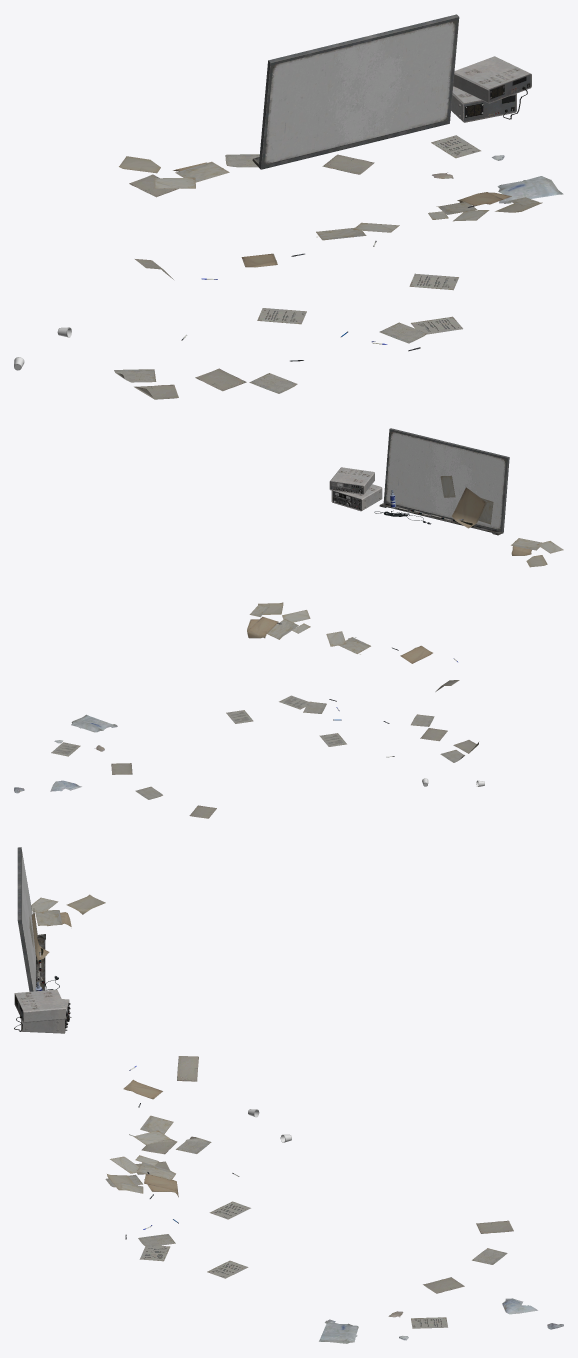
Rendered from sm39_046_machinedeskset01a.fbx.
3 renders of one model, top to bottom at view 1: azimuth 30°, elevation 25°; view 2: azimuth 150°, elevation 25°; view 3: azimuth 270°, elevation 25°, orthographic. The views are drawn at different scales.
Parts seen in each view (by area): view 1: LOD_1_Group_0_Sub_5__sm30_061_WhiteBoard02A_A_Mat, LOD_1_Group_0_Sub_4__sm36_011_Document01A_A_Mat, LOD_1_Group_0_Sub_8__sm31_023_AudioInstrument01A_A_Mat, LOD_1_Group_0_Sub_1__sm7x_ItemCommon_Document01A_A_Mat, LOD_1_Group_6_Sub_1__sm7x_ItemCommon_Document01A_A_Mat, LOD_1_Group_5_Sub_1__sm7x_ItemCommon_Document01A_A_Mat, LOD_1_Group_4_Sub_1__sm7x_ItemCommon_Document01A_A_Mat, LOD_1_Group_0_Sub_7__sm20_001_WastePaper01A_A_Mat; view 2: LOD_1_Group_0_Sub_5__sm30_061_WhiteBoard02A_A_Mat, LOD_1_Group_0_Sub_4__sm36_011_Document01A_A_Mat, LOD_1_Group_0_Sub_8__sm31_023_AudioInstrument01A_A_Mat, LOD_1_Group_0_Sub_7__sm20_001_WastePaper01A_A_Mat, LOD_1_Group_0_Sub_1__sm7x_ItemCommon_Document01A_A_Mat, LOD_1_Group_6_Sub_1__sm7x_ItemCommon_Document01A_A_Mat, LOD_1_Group_5_Sub_1__sm7x_ItemCommon_Document01A_A_Mat, LOD_1_Group_4_Sub_1__sm7x_ItemCommon_Document01A_A_Mat; view 3: LOD_1_Group_0_Sub_4__sm36_011_Document01A_A_Mat, LOD_1_Group_0_Sub_8__sm31_023_AudioInstrument01A_A_Mat, LOD_1_Group_0_Sub_5__sm30_061_WhiteBoard02A_A_Mat, LOD_1_Group_0_Sub_7__sm20_001_WastePaper01A_A_Mat, LOD_1_Group_0_Sub_1__sm7x_ItemCommon_Document01A_A_Mat, LOD_1_Group_6_Sub_1__sm7x_ItemCommon_Document01A_A_Mat, LOD_1_Group_5_Sub_1__sm7x_ItemCommon_Document01A_A_Mat, LOD_1_Group_4_Sub_1__sm7x_ItemCommon_Document01A_A_Mat.
Boxes of the visible parts, <box> form: LOD_1_Group_0_Sub_5__sm30_061_WhiteBoard02A_A_Mat: <box>252,14,459,169</box>; LOD_1_Group_0_Sub_4__sm36_011_Document01A_A_Mat: <box>119,156,542,267</box>; LOD_1_Group_0_Sub_8__sm31_023_AudioInstrument01A_A_Mat: <box>451,56,531,122</box>; LOD_1_Group_0_Sub_1__sm7x_ItemCommon_Document01A_A_Mat: <box>135,259,306,393</box>; LOD_1_Group_6_Sub_1__sm7x_ItemCommon_Document01A_A_Mat: <box>225,135,480,174</box>; LOD_1_Group_5_Sub_1__sm7x_ItemCommon_Document01A_A_Mat: <box>129,174,458,343</box>; LOD_1_Group_4_Sub_1__sm7x_ItemCommon_Document01A_A_Mat: <box>114,316,462,399</box>; LOD_1_Group_0_Sub_7__sm20_001_WastePaper01A_A_Mat: <box>432,155,563,203</box>; LOD_1_Group_0_Sub_5__sm30_061_WhiteBoard02A_A_Mat: <box>379,428,509,535</box>; LOD_1_Group_0_Sub_4__sm36_011_Document01A_A_Mat: <box>247,475,563,663</box>; LOD_1_Group_0_Sub_8__sm31_023_AudioInstrument01A_A_Mat: <box>329,467,382,511</box>; LOD_1_Group_0_Sub_7__sm20_001_WastePaper01A_A_Mat: <box>14,714,117,793</box>; LOD_1_Group_0_Sub_1__sm7x_ItemCommon_Document01A_A_Mat: <box>319,680,459,746</box>; LOD_1_Group_6_Sub_1__sm7x_ItemCommon_Document01A_A_Mat: <box>51,742,162,799</box>; LOD_1_Group_5_Sub_1__sm7x_ItemCommon_Document01A_A_Mat: <box>189,701,326,818</box>; LOD_1_Group_4_Sub_1__sm7x_ItemCommon_Document01A_A_Mat: <box>279,695,478,762</box>; LOD_1_Group_0_Sub_4__sm36_011_Document01A_A_Mat: <box>29,894,178,1197</box>; LOD_1_Group_0_Sub_8__sm31_023_AudioInstrument01A_A_Mat: <box>14,989,71,1033</box>; LOD_1_Group_0_Sub_5__sm30_061_WhiteBoard02A_A_Mat: <box>17,847,45,991</box>; LOD_1_Group_0_Sub_7__sm20_001_WastePaper01A_A_Mat: <box>319,1298,563,1343</box>; LOD_1_Group_0_Sub_1__sm7x_ItemCommon_Document01A_A_Mat: <box>105,1056,250,1219</box>; LOD_1_Group_6_Sub_1__sm7x_ItemCommon_Document01A_A_Mat: <box>411,1248,507,1328</box>; LOD_1_Group_5_Sub_1__sm7x_ItemCommon_Document01A_A_Mat: <box>138,1220,513,1278</box>; LOD_1_Group_4_Sub_1__sm7x_ItemCommon_Document01A_A_Mat: <box>139,1136,211,1261</box>.
Bounding box in the file's own units: 4.92 × 3.07 × 4.96.
